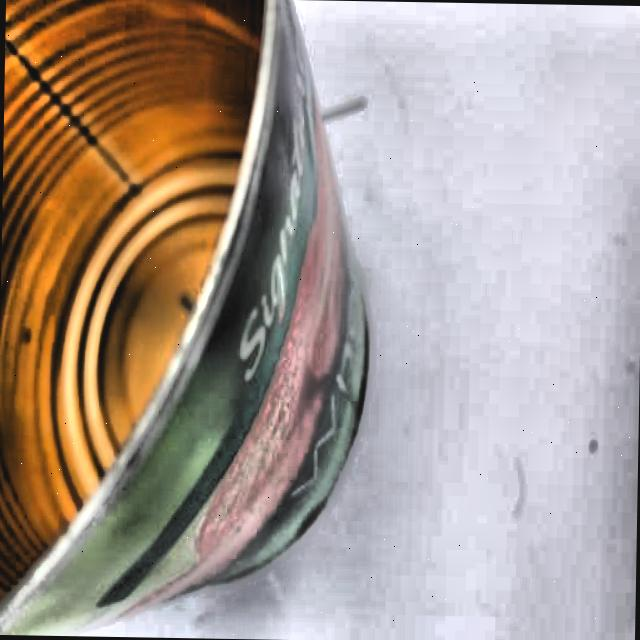metal: (0, 0, 375, 617)
